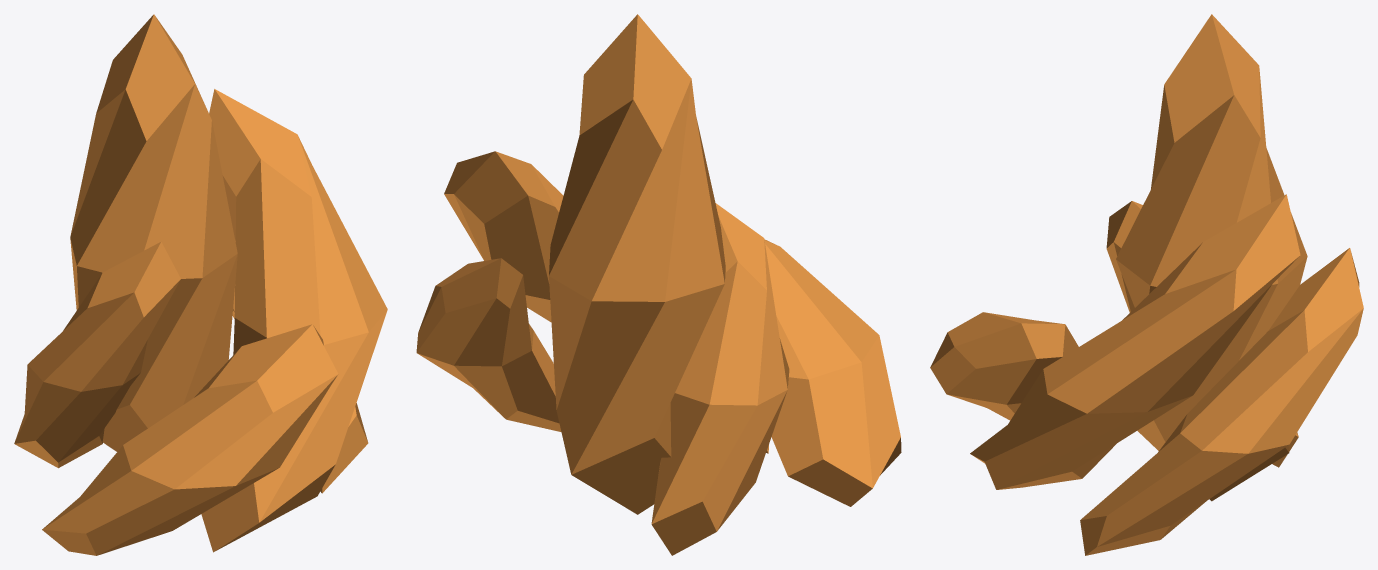
Rendered from SM_RockFormation_D.fbx.
3 views of the same model, side by side, from view 1: azimuth 30°, elevation 25°; view 2: azimuth 150°, elevation 25°; view 3: azimuth 270°, elevation 25° (orthographic). The views are drawn at different scales.
Parts seen in each view (by area): view 1: SM_RockFormation_D; view 2: SM_RockFormation_D; view 3: SM_RockFormation_D.
Part boxes in pixels (x1,y1,x2,y2): SM_RockFormation_D: [14, 14, 387, 555]; SM_RockFormation_D: [416, 14, 901, 555]; SM_RockFormation_D: [930, 14, 1363, 555].
Bounding box in the file's own units: 247 × 314 × 252.
